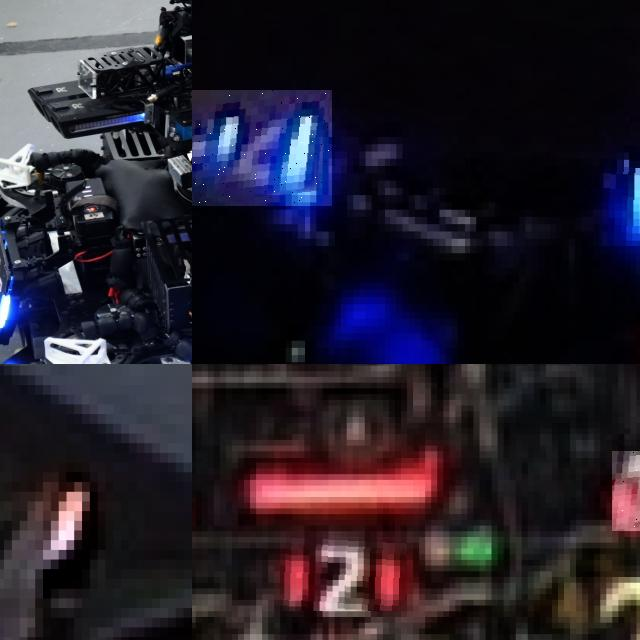B2: (192, 89, 331, 206), (602, 129, 640, 246)
Bs: (0, 223, 29, 347)
R2: (280, 532, 407, 612), (612, 451, 640, 531)
